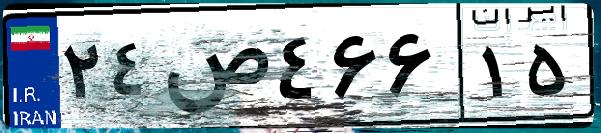1: (475, 38, 525, 113)
2: (57, 26, 110, 100)
4: (270, 28, 330, 110), (110, 28, 158, 98)
5: (525, 38, 570, 115)
6: (385, 28, 445, 110), (330, 28, 385, 110)
ص: (158, 20, 270, 120)
